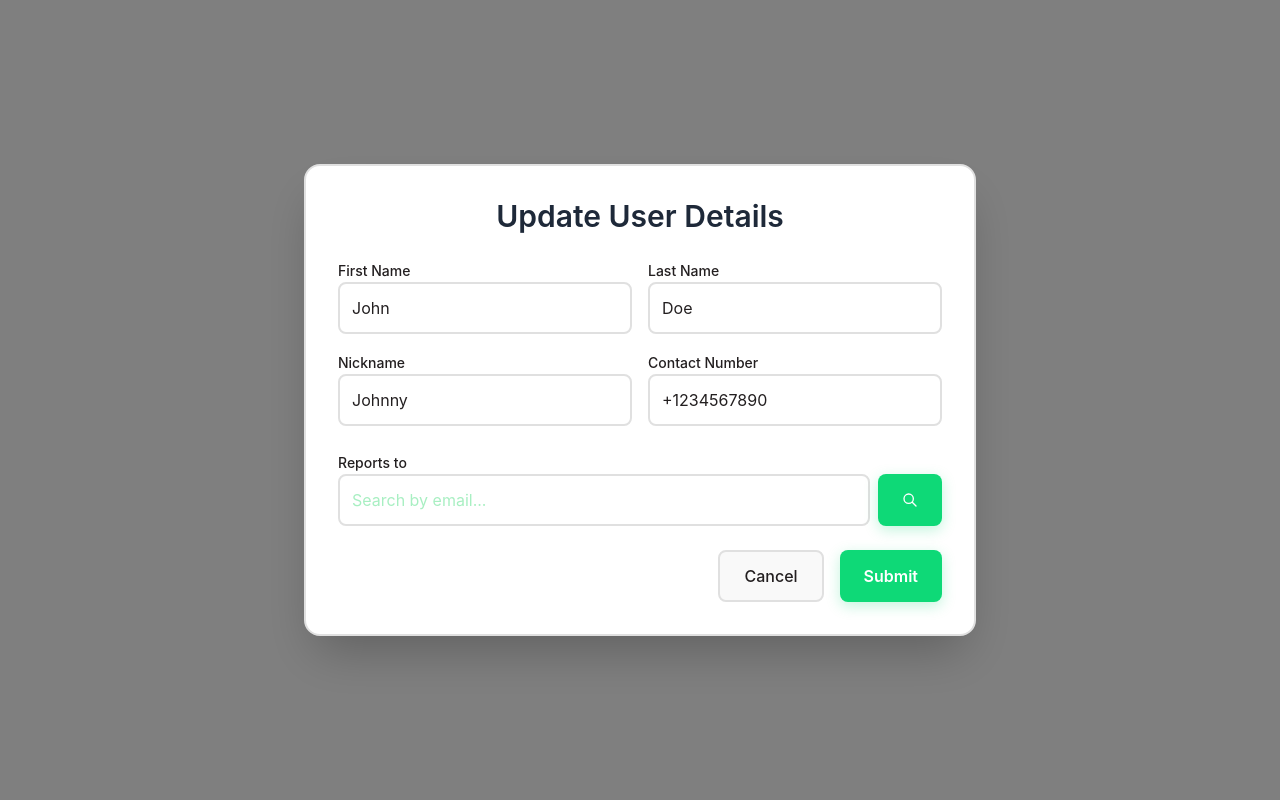
Test: AdminUserUpdateModal › should validate required fields
# Clear required fields
Clear the field labelled "First Name". click: (485, 308)
box: [338,282,632,334]
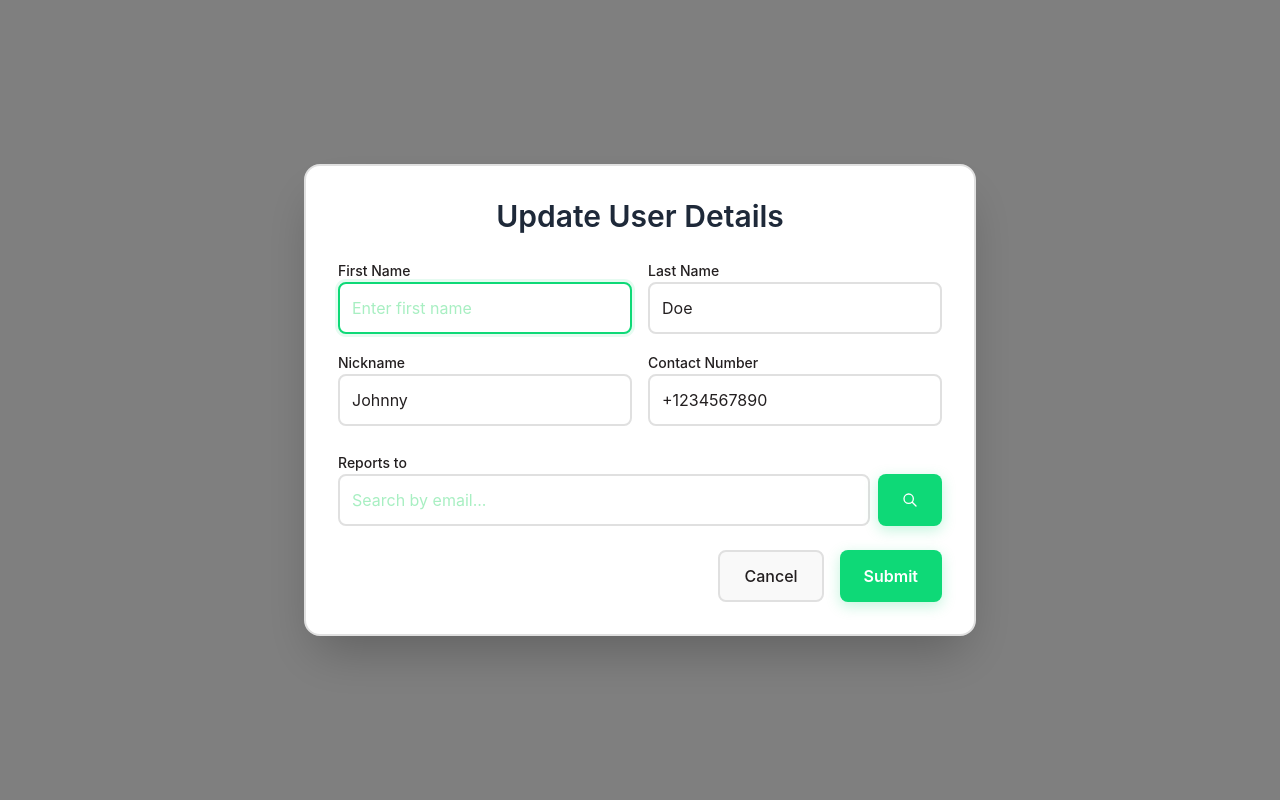
Click the button "Submit". click: (891, 576)
box: [840,550,942,602]
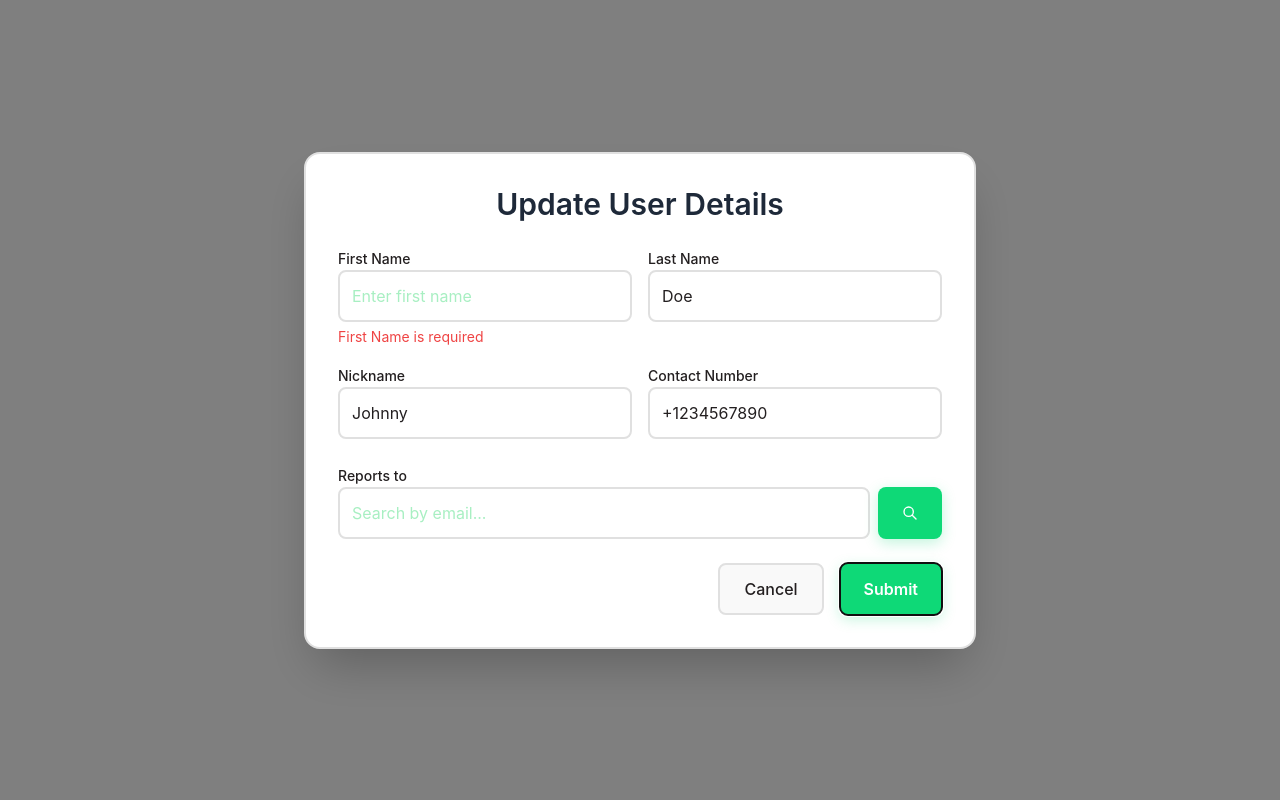
Result: the text "First Name is required" is shown at [338,328,484,344]
